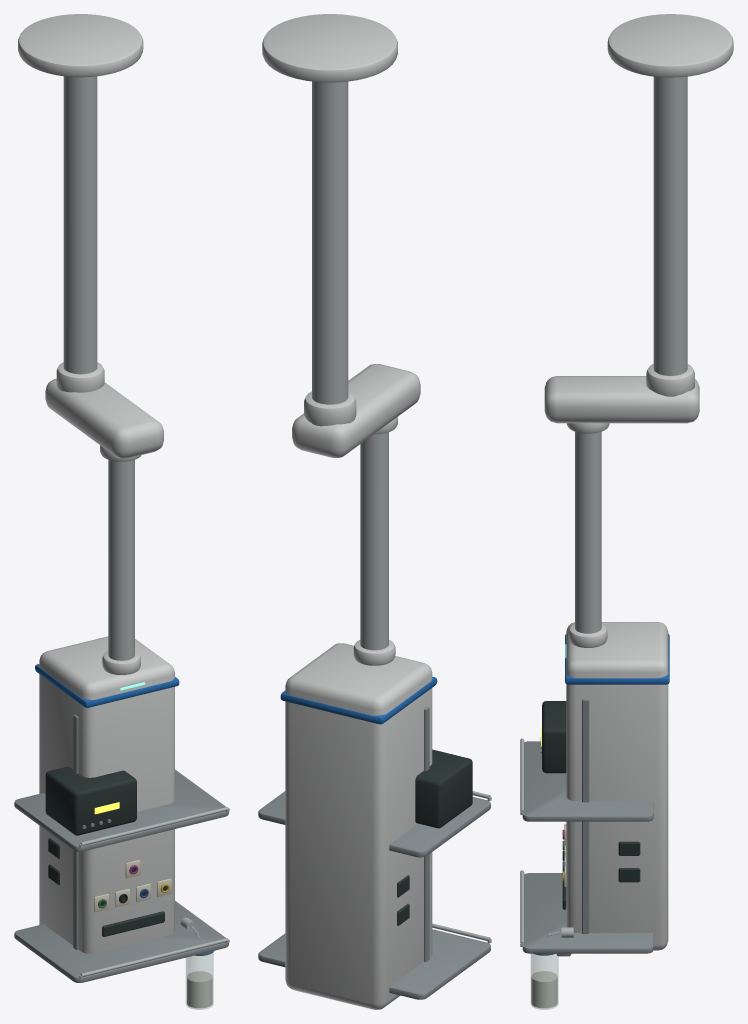
The model's file is sc-anaesthesia-pendant.glb.
The picture shows the model from 3 angles, left to right: view 1: azimuth 30°, elevation 25°; view 2: azimuth 150°, elevation 25°; view 3: azimuth 270°, elevation 25°; orthographic projection. The views are drawn at different scales.
Visible parts, largest first — view 1: sc-anaesthesia-pendant; view 2: sc-anaesthesia-pendant; view 3: sc-anaesthesia-pendant.
Part boxes in pixels (x1=…): sc-anaesthesia-pendant: x1=14, y1=14, x2=229, y2=1009; sc-anaesthesia-pendant: x1=258, y1=14, x2=491, y2=1009; sc-anaesthesia-pendant: x1=520, y1=14, x2=733, y2=1009.
Bounding box in the file's own units: 0.74 × 4.26 × 0.88.
